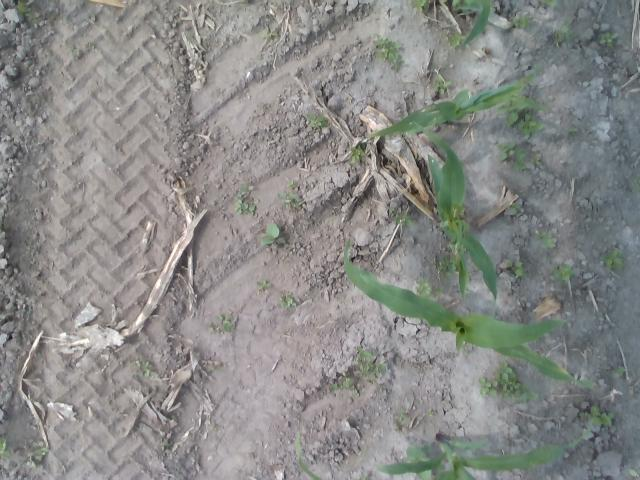Maize: (343, 236, 596, 388), (293, 423, 595, 480), (411, 118, 499, 302), (368, 68, 547, 136), (436, 0, 492, 50)
Weeds: (494, 360, 540, 404), (352, 344, 386, 386), (372, 34, 404, 70), (404, 442, 434, 480), (496, 141, 526, 171), (232, 185, 260, 217), (496, 97, 526, 126), (580, 404, 616, 428), (327, 371, 358, 398), (22, 440, 50, 467), (261, 220, 288, 246), (516, 112, 545, 135), (552, 18, 574, 46), (600, 247, 624, 270), (208, 314, 234, 334), (503, 257, 527, 278), (438, 254, 458, 279), (388, 206, 414, 225), (130, 358, 156, 377), (278, 191, 304, 208), (534, 228, 556, 248), (15, 1, 38, 20), (552, 263, 575, 281), (478, 376, 497, 396), (444, 31, 466, 48), (416, 276, 432, 298), (276, 291, 296, 308), (597, 31, 618, 47), (307, 114, 330, 128), (406, 0, 430, 13), (349, 144, 366, 162), (434, 74, 450, 93), (0, 433, 11, 460), (512, 14, 530, 28), (433, 461, 448, 474), (256, 278, 271, 290), (433, 284, 446, 296), (538, 0, 560, 7), (348, 473, 370, 480), (507, 202, 522, 212), (262, 27, 278, 36), (529, 155, 542, 166), (446, 239, 456, 253), (396, 408, 406, 422), (614, 364, 626, 374), (633, 174, 640, 190), (565, 127, 578, 135), (628, 468, 638, 478), (160, 440, 172, 448), (286, 180, 296, 189), (208, 365, 215, 371), (427, 412, 433, 418), (463, 350, 469, 355)
